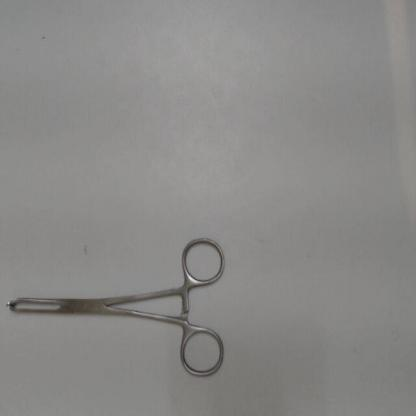Allis Tissue Forceps: (2, 230, 230, 392)
